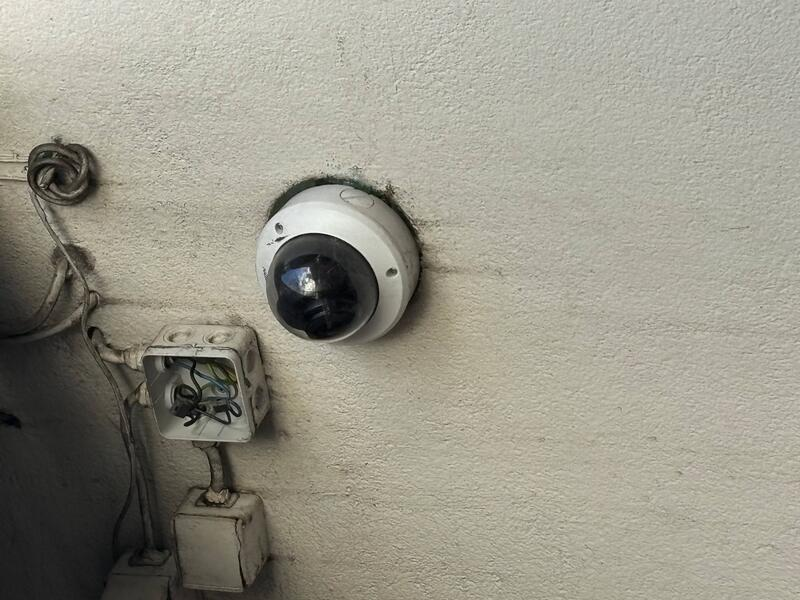dome: (236, 256, 436, 420)
